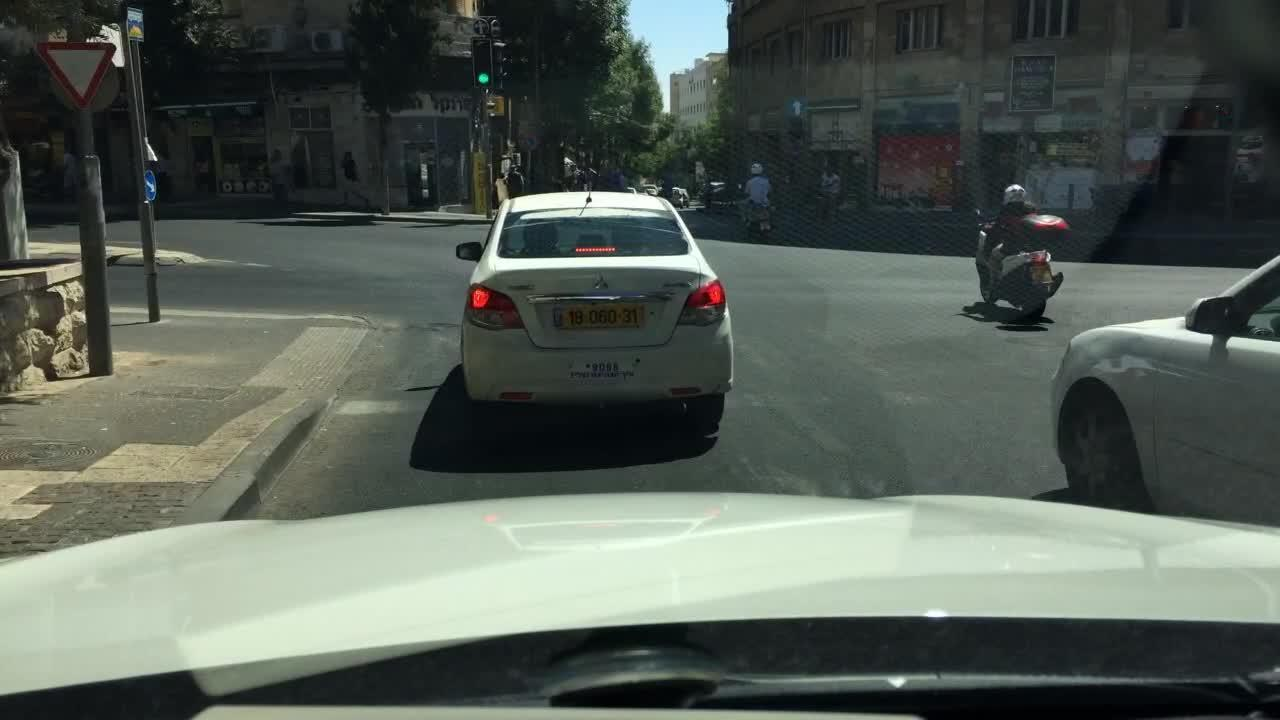Mitsubishi: (589, 270, 611, 296)
